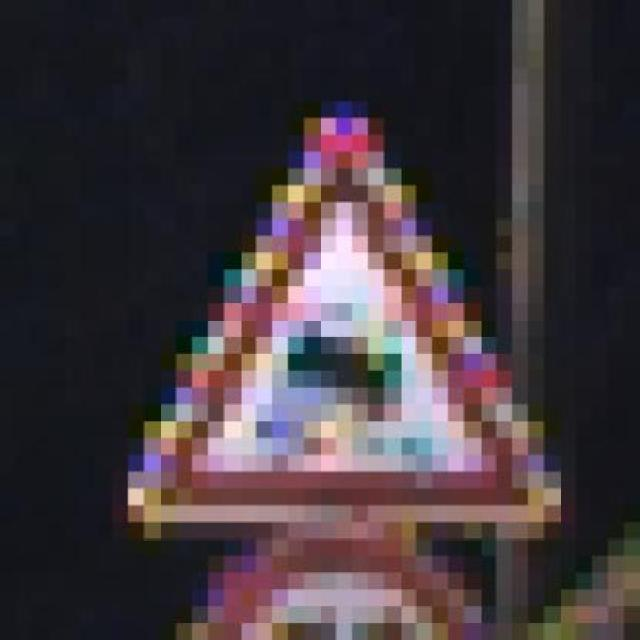Slippery Road Ahead: (95, 101, 560, 539)
